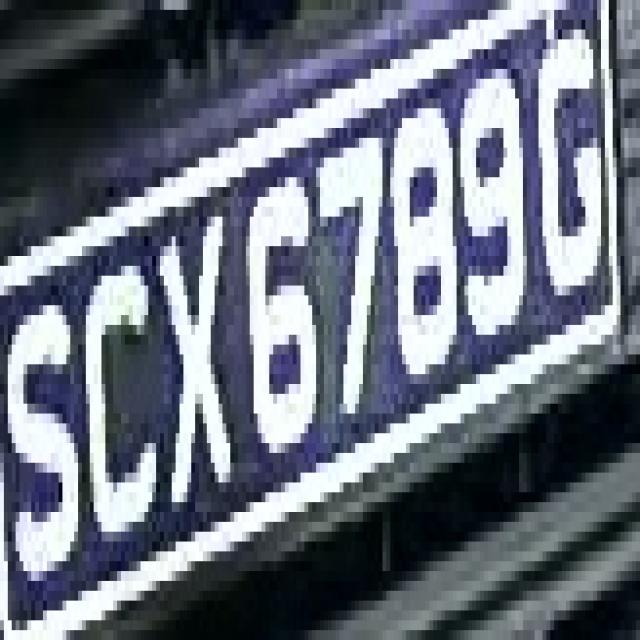6: (242, 148, 316, 472)
7: (308, 119, 398, 424)
8: (378, 89, 468, 384)
9: (448, 49, 534, 364)
C: (78, 236, 160, 552)
G: (538, 20, 612, 315)
S: (12, 276, 82, 581)
X: (156, 187, 238, 522)
